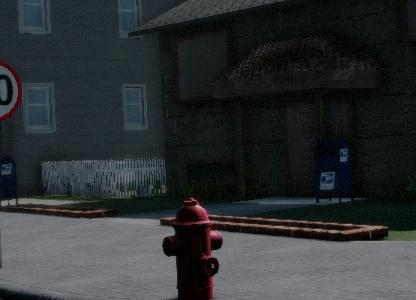Speed_30: (0, 57, 24, 120)
